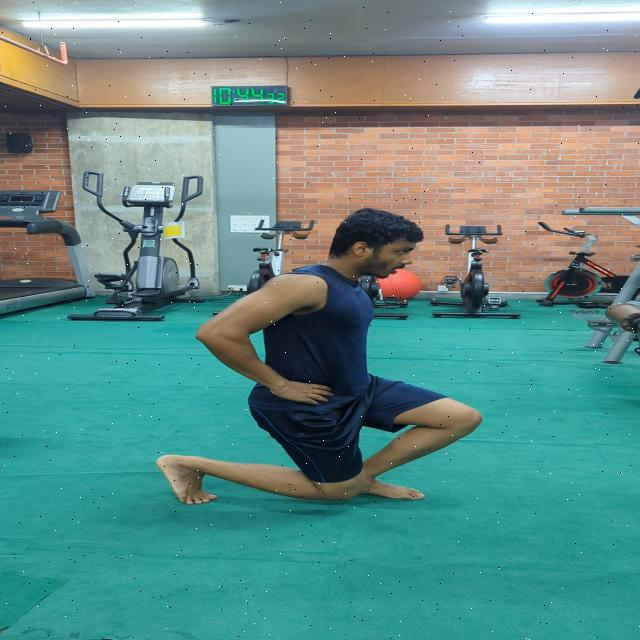Normal_Lunges: (144, 203, 512, 517)
